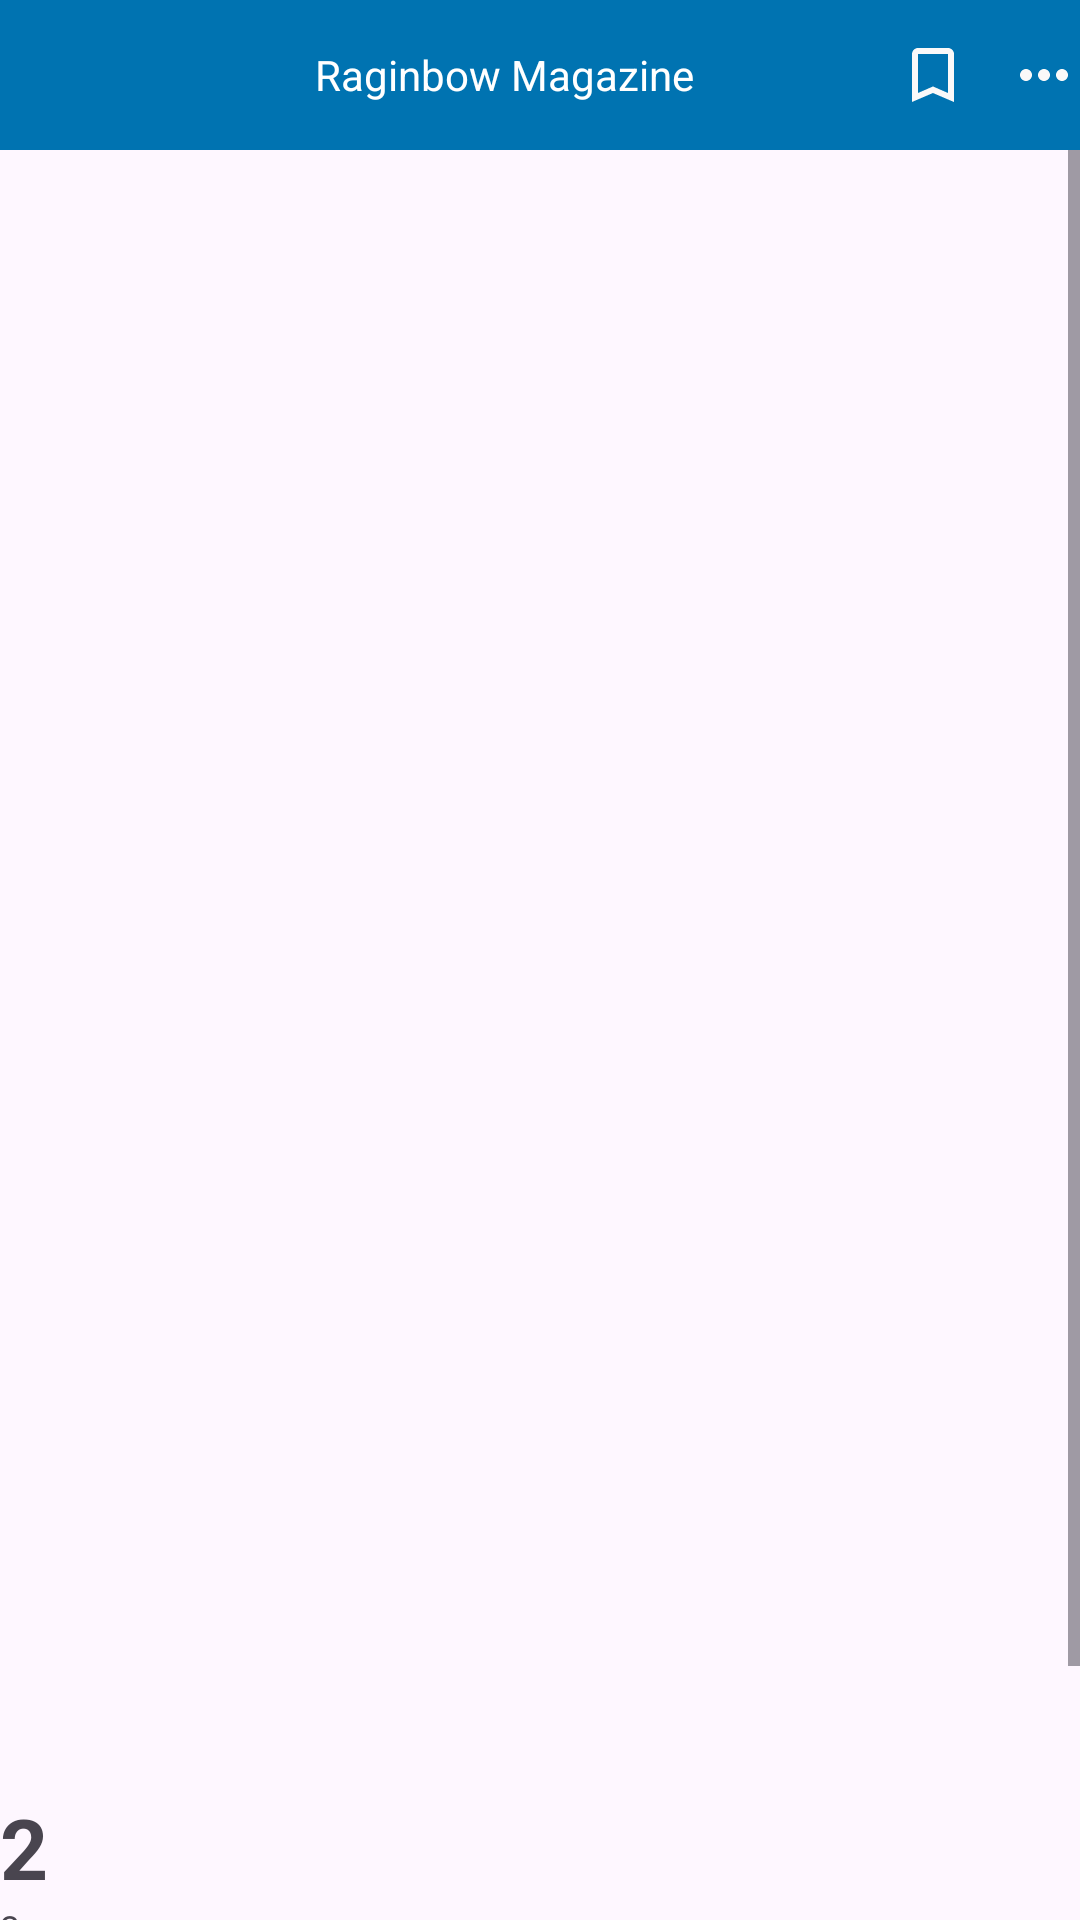

Named icons in this screenshot (1080 x 1920) and their bounding boxes, bbox=(x1, y1, x2, y2):
bookmark: bbox=(912, 48, 954, 102)
more horiz: bbox=(1020, 69, 1068, 81)
